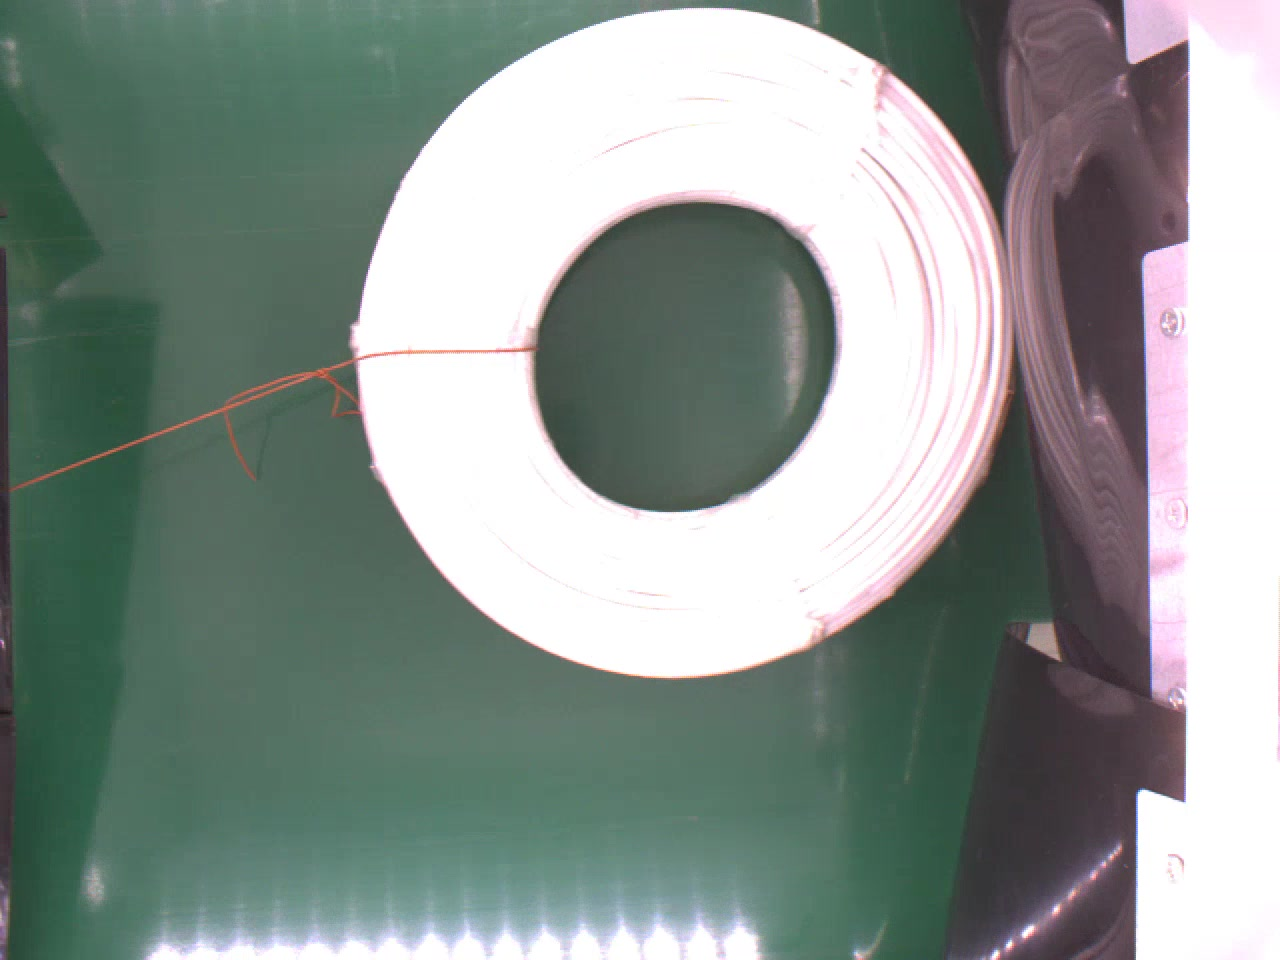white: (347, 4, 1016, 678)
